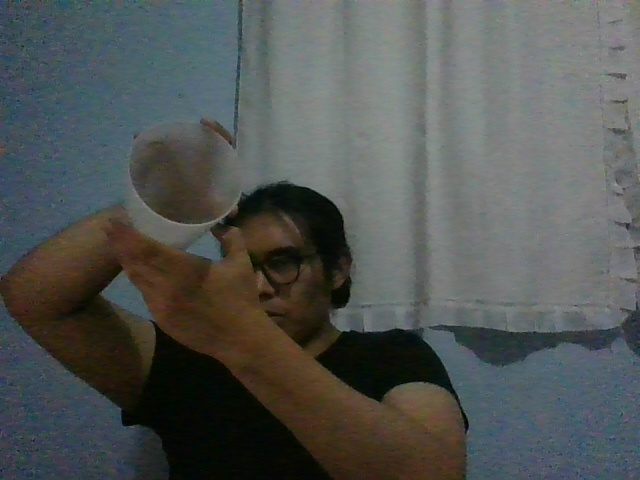vaso: (124, 121, 244, 249)
